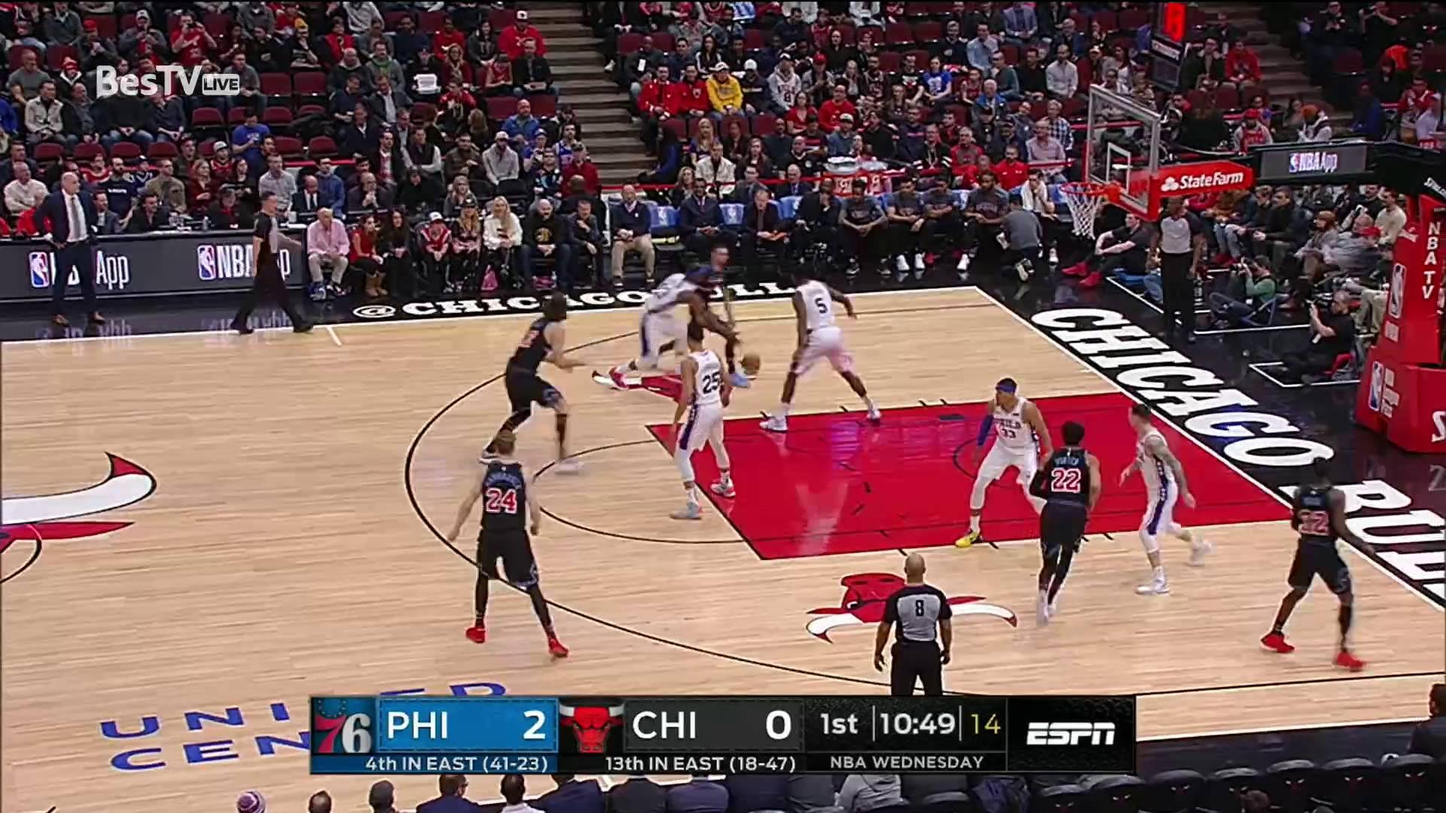basketball: (741, 351, 762, 374)
